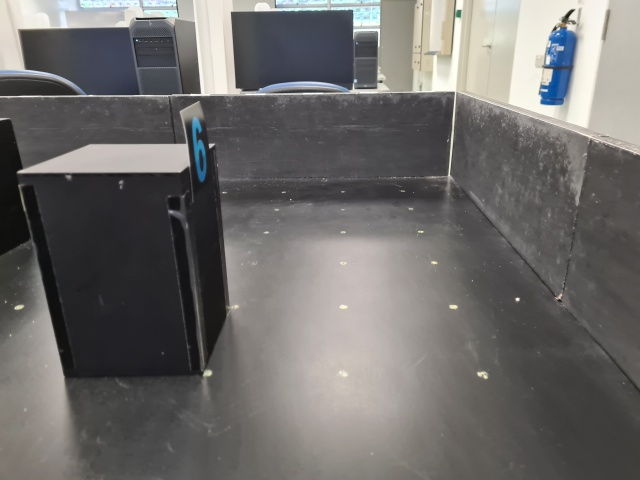six: (176, 99, 216, 204)
